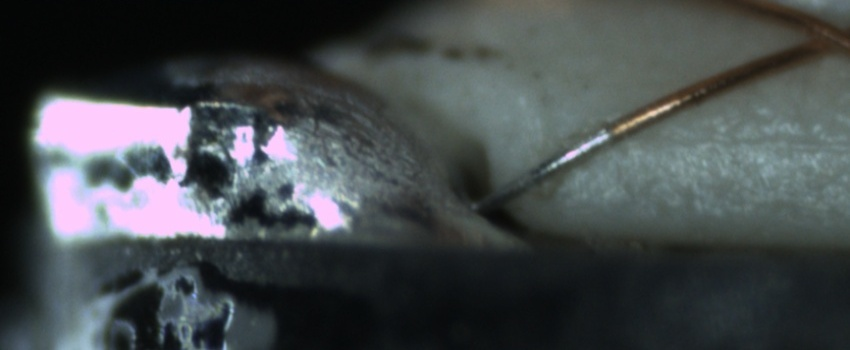CL: (790, 7, 850, 63)
DL: (640, 108, 850, 172)
TS: (471, 124, 613, 214)
